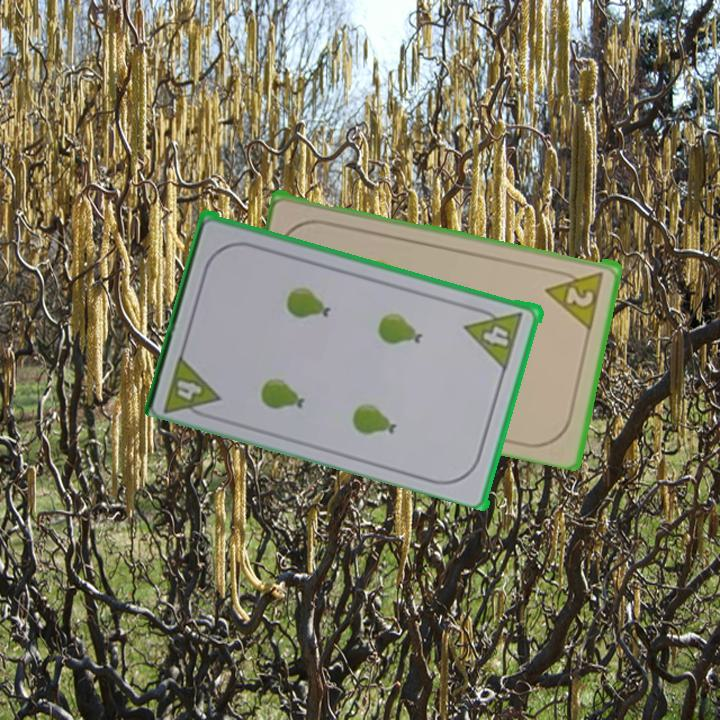2p: (563, 281, 597, 310)
4p: (462, 321, 515, 370), (174, 376, 206, 403)
